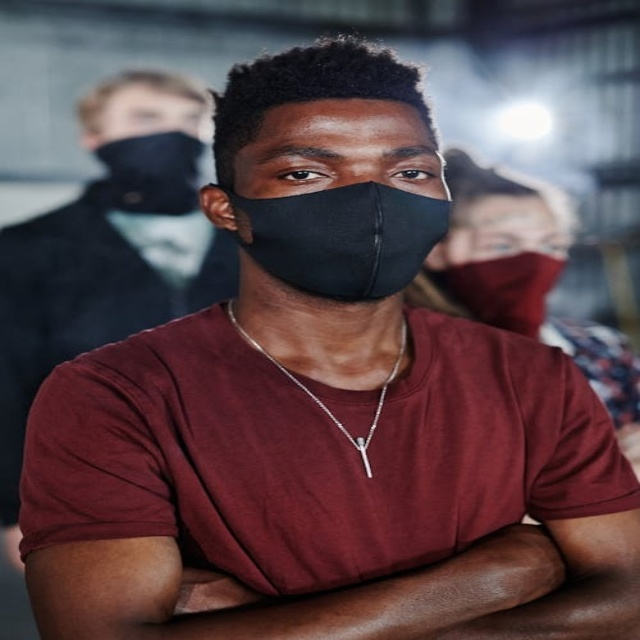Mascara: (218, 174, 454, 301), (433, 250, 566, 337), (91, 132, 208, 215)
Sin_gafas: (233, 137, 447, 196), (471, 228, 570, 258)
